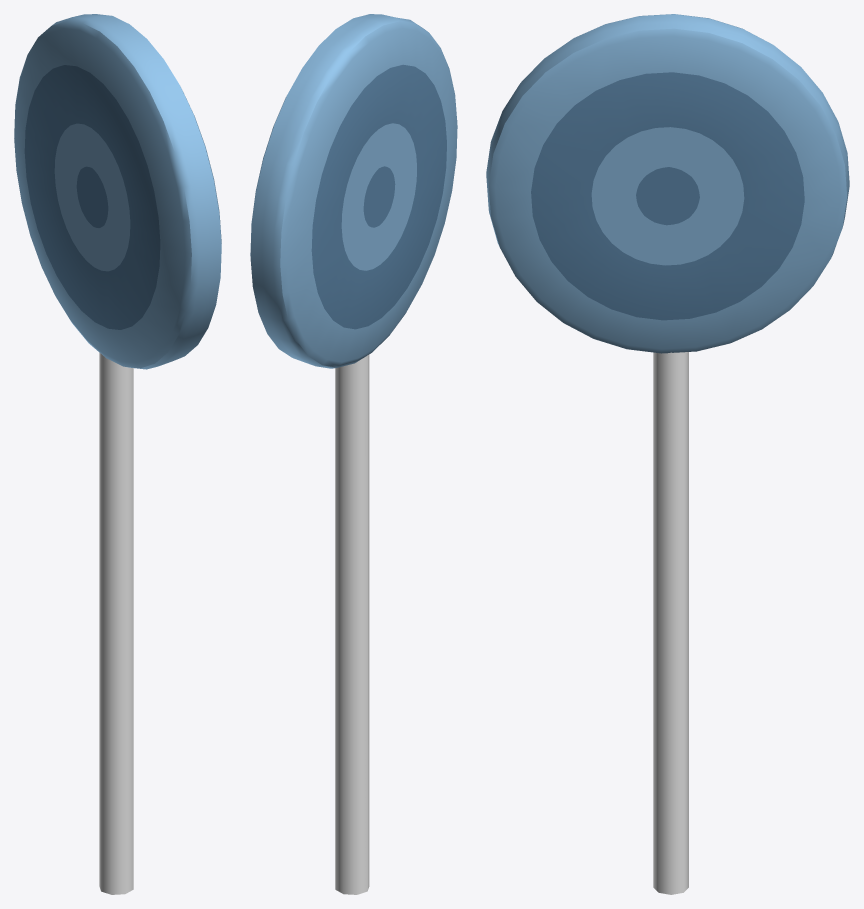
Rendered from SM_Lolly_Blue.fbx.
3 renders of one model, left to right at view 1: azimuth 30°, elevation 25°; view 2: azimuth 150°, elevation 25°; view 3: azimuth 270°, elevation 25°, orthographic.
Parts seen in each view (by area): view 1: SM_Lolly_Blue; view 2: SM_Lolly_Blue; view 3: SM_Lolly_Blue.
Boxes of the visible parts, box(x1,y1,x2,y2) form: SM_Lolly_Blue: box(14, 14, 221, 894); SM_Lolly_Blue: box(250, 14, 457, 894); SM_Lolly_Blue: box(486, 14, 849, 894).
Bounding box in the file's own units: 25.31 × 409 × 155.
1 material, 1 textured.
